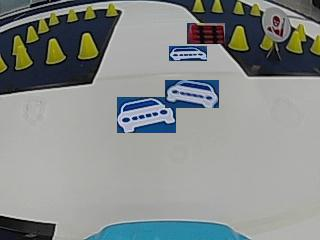evil: (261, 7, 290, 42)
